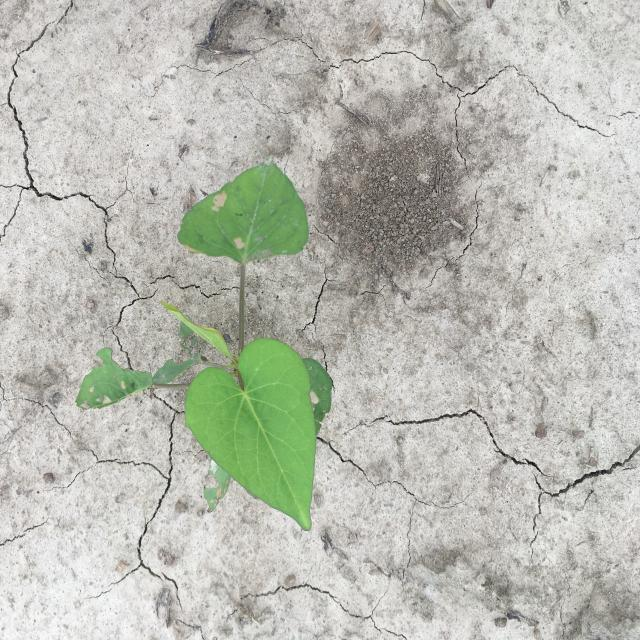MorningGlory: (75, 158, 333, 532)
